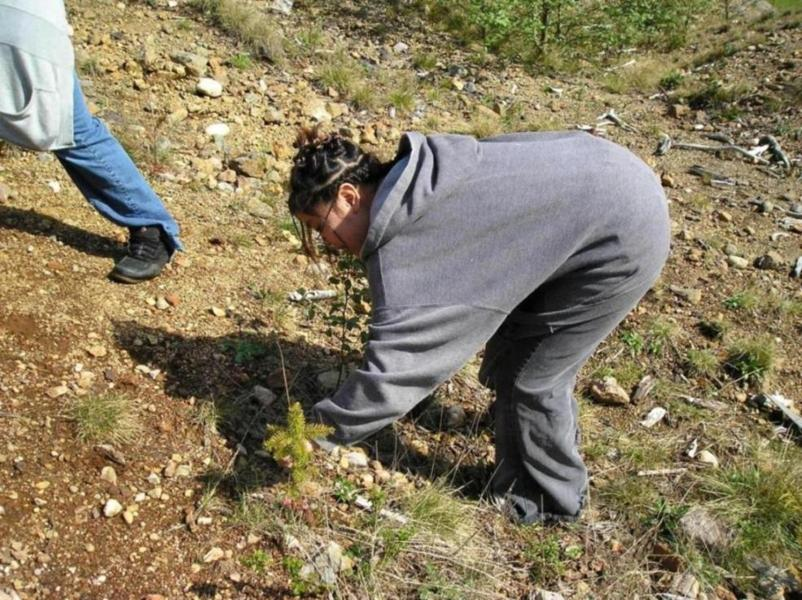person: (287, 128, 668, 523)
